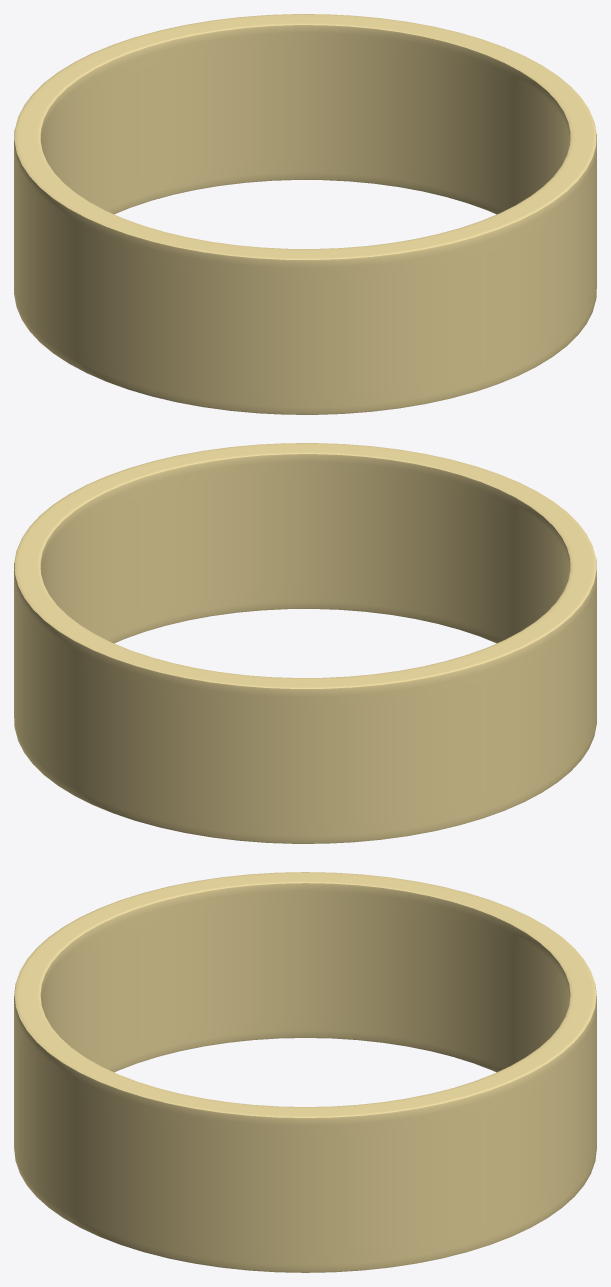
The picture shows the model from 3 angles, top to bottom: view 1: azimuth 30°, elevation 25°; view 2: azimuth 150°, elevation 25°; view 3: azimuth 270°, elevation 25°; orthographic projection.
Parts seen in each view (by area): view 1: Base_Metal, Engraving_Metal; view 2: Base_Metal, Engraving_Metal; view 3: Base_Metal, Engraving_Metal.
Part boxes in pixels (<box>): Base_Metal: <box>14,14,596,414</box>; Engraving_Metal: <box>40,25,570,214</box>; Base_Metal: <box>14,443,596,843</box>; Engraving_Metal: <box>40,454,570,643</box>; Base_Metal: <box>14,872,596,1272</box>; Engraving_Metal: <box>40,883,570,1072</box>.
Size of the model in its own units: 2.04 by 0.6 by 2.04.
